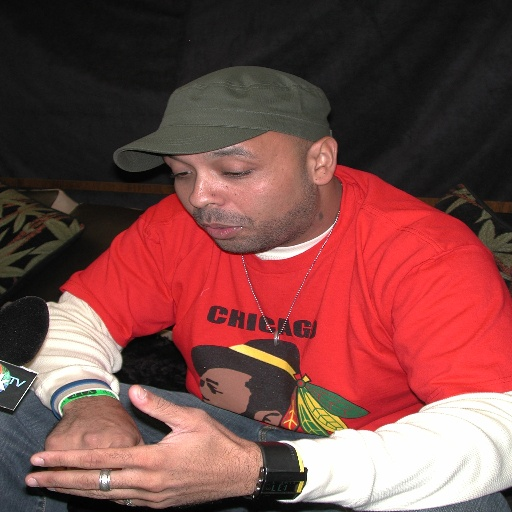hand: (44, 389, 307, 499), (43, 393, 144, 450)
